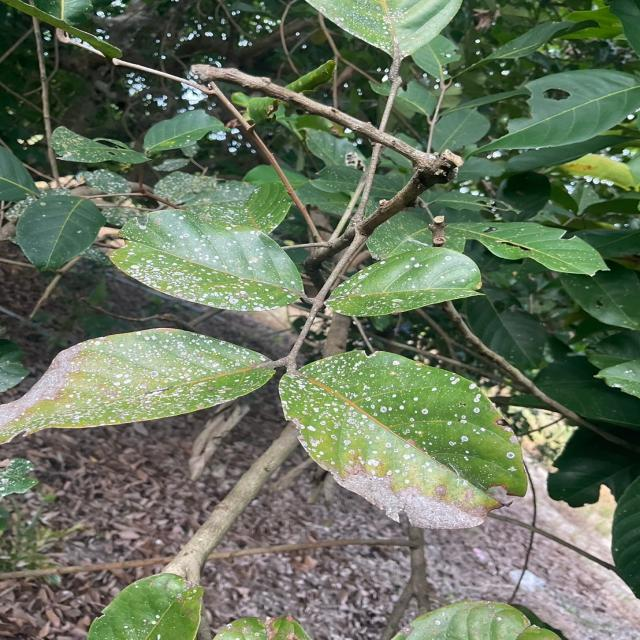Algal Leaf Spot: (289, 360, 484, 524), (52, 319, 265, 416), (128, 208, 287, 304)
